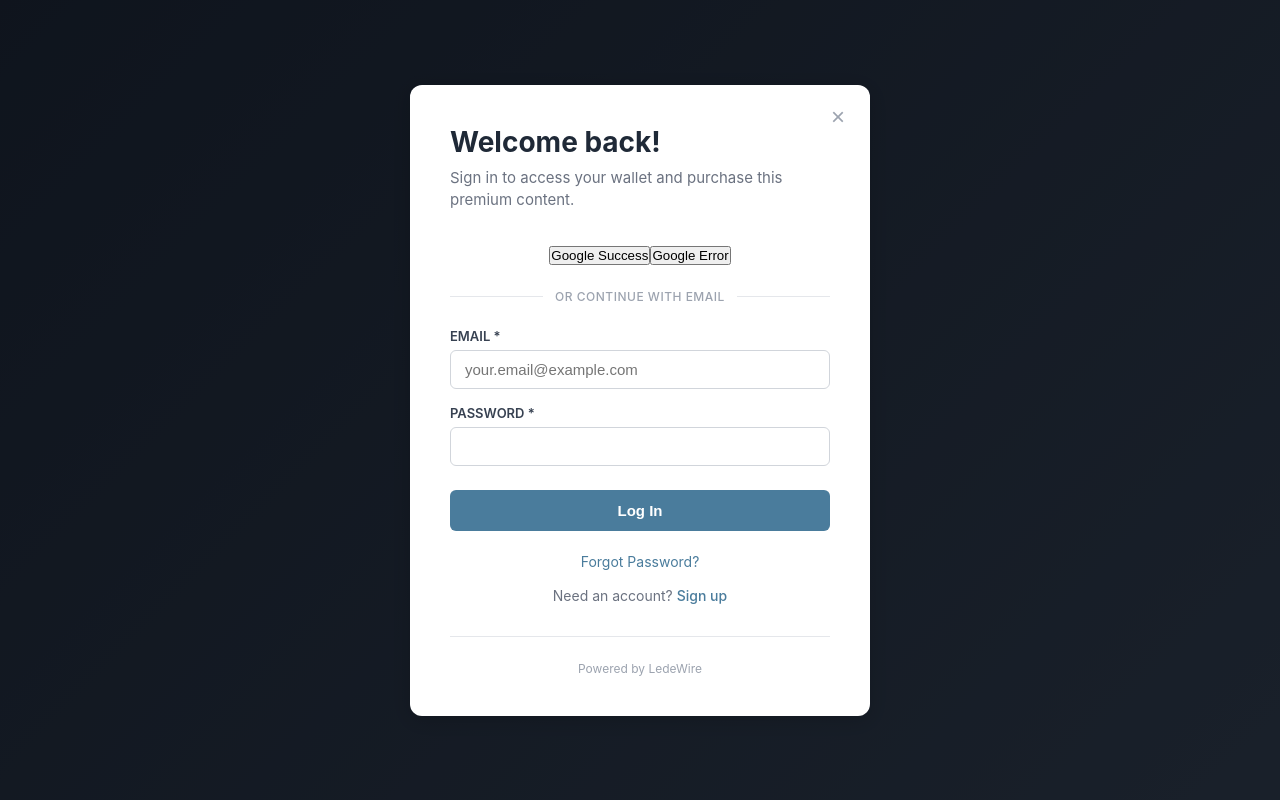
Test: LoginModal › shows Google error message
This screenshot has width=1280, height=800.
Click the button "Google Error" at (691, 255), box left=650, top=246, right=731, bottom=264
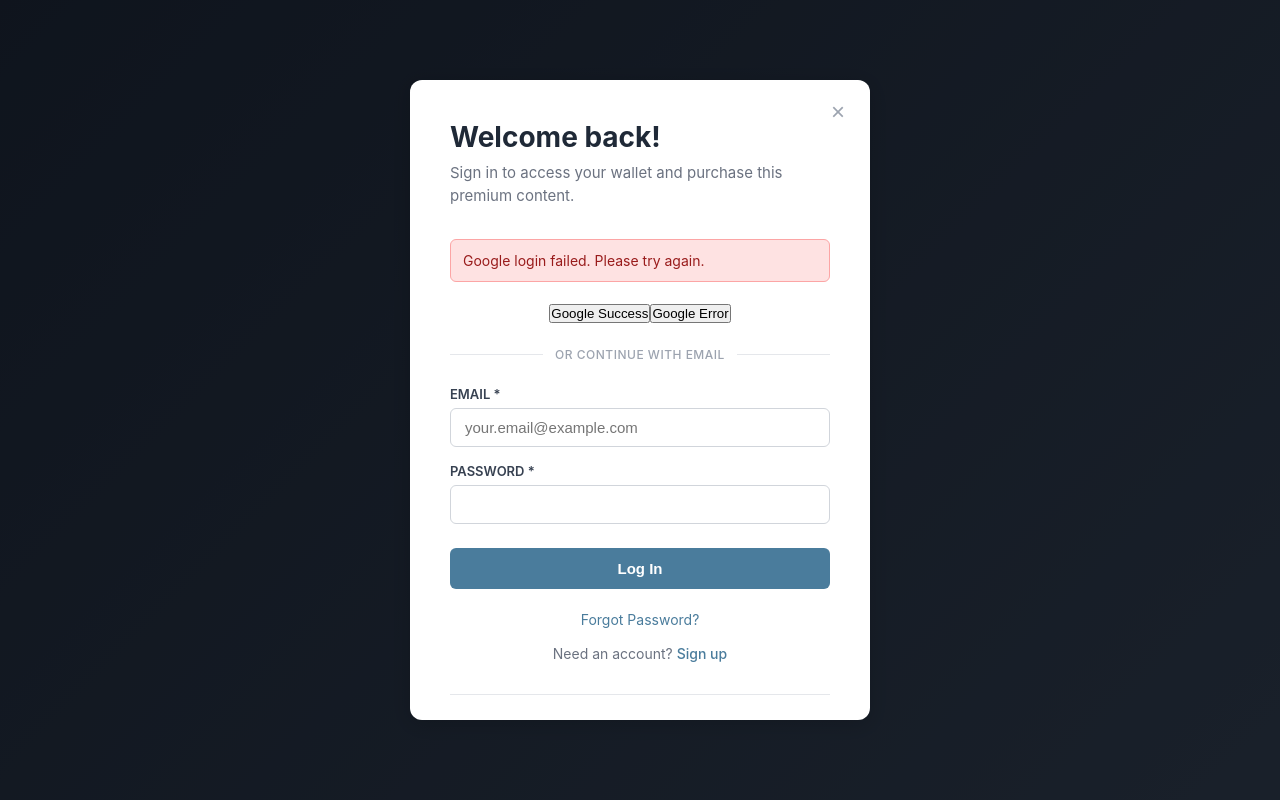
Expected: the text "Google login failed. Please try again." is shown, left=450, top=239, right=830, bottom=282
